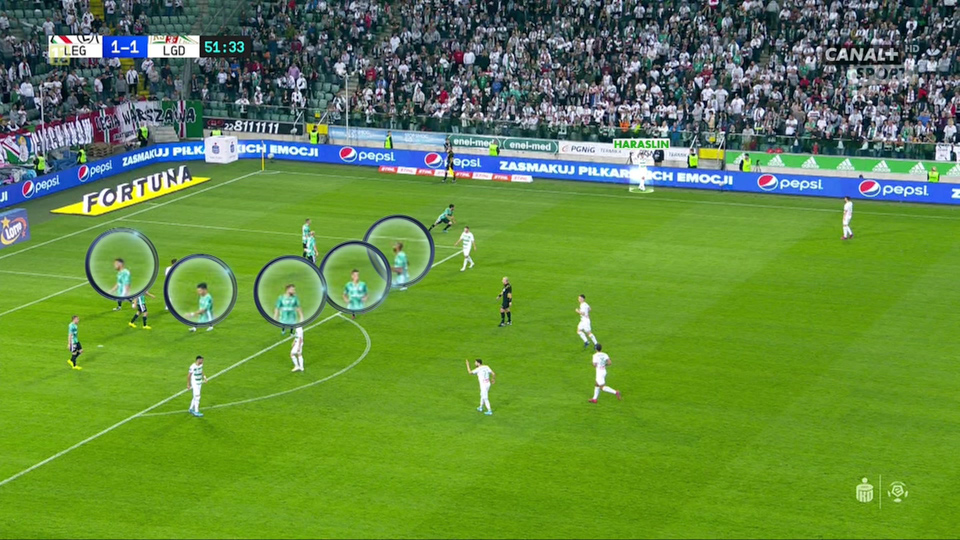Adidas: (837, 157, 855, 171), (873, 161, 893, 173), (769, 155, 786, 165)
